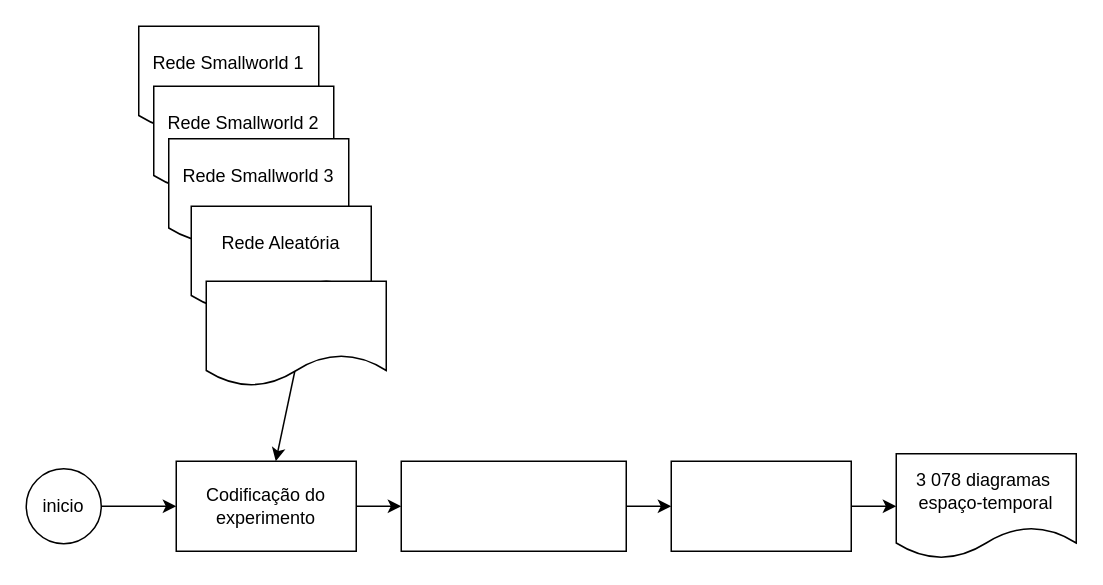
Image size: 1103x585. Some labels were removed from this diagram. The shapes that lost their labels are listed below. From the top down, each one's centre as x and y in pixels, then its label:
(x=295, y=333): 3 configurações de reticulado
(x=513, y=505): Execução do experimento
(x=760, y=505): Plotagem dos diagramas espaço-temporal
